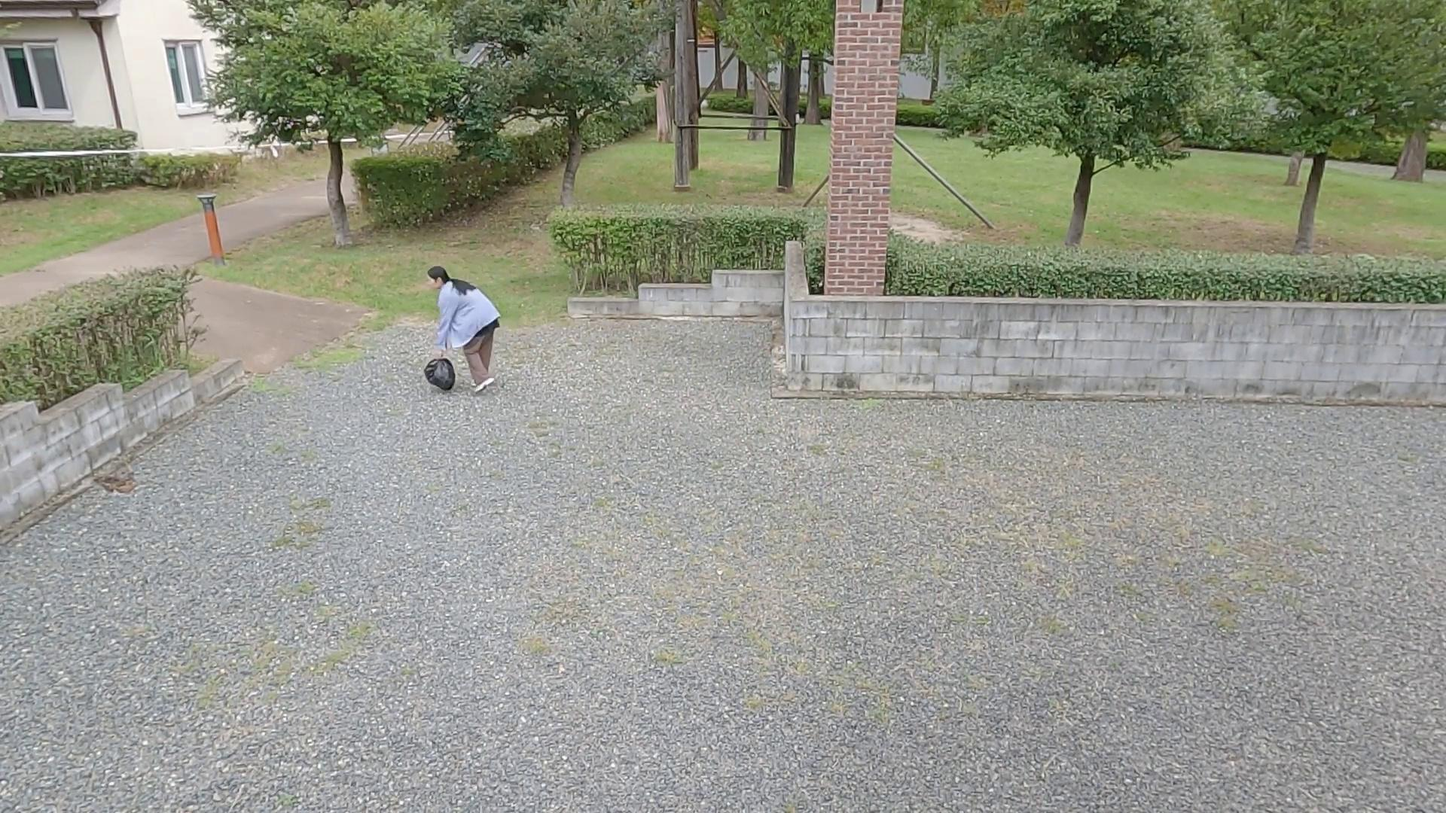person: (424, 265, 501, 395)
trash: (425, 357, 457, 391)
